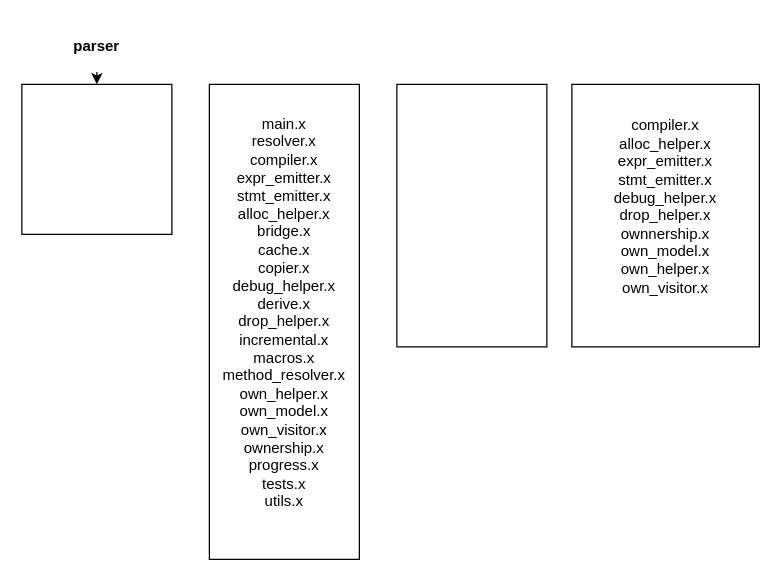
Some shapes in this 781 by 581 pixel diagram are drawn without their labels. Each missing label, with the box of its shape:
lexer.x parser.x token.x ast.x printer.x: (21, 83, 172, 234)
resolver.x method_resolver.x copier.x derive.x macros.x: (396, 83, 547, 347)
